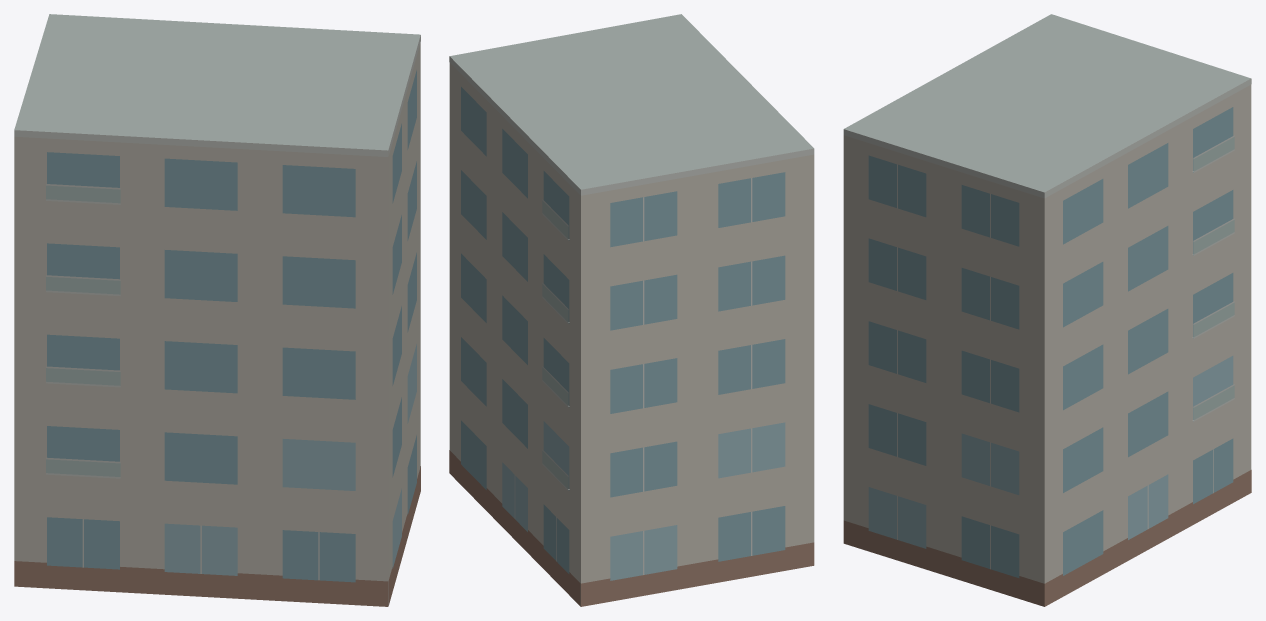
The model's file is survey-upis-32846919.glb.
3 views of the same model, side by side, from view 1: azimuth 30°, elevation 25°; view 2: azimuth 150°, elevation 25°; view 3: azimuth 270°, elevation 25° (orthographic). The views are drawn at different scales.
Parts seen in each view (by area): view 1: survey-upis-32846919.tmp; view 2: survey-upis-32846919.tmp; view 3: survey-upis-32846919.tmp.
Boxes of the visible parts, x1,y1,x2,y2 form: survey-upis-32846919.tmp: (14,14,420,606); survey-upis-32846919.tmp: (449,14,814,606); survey-upis-32846919.tmp: (843,14,1251,606).
Bounding box in the file's own units: 15.67 × 16.95 × 15.13.
